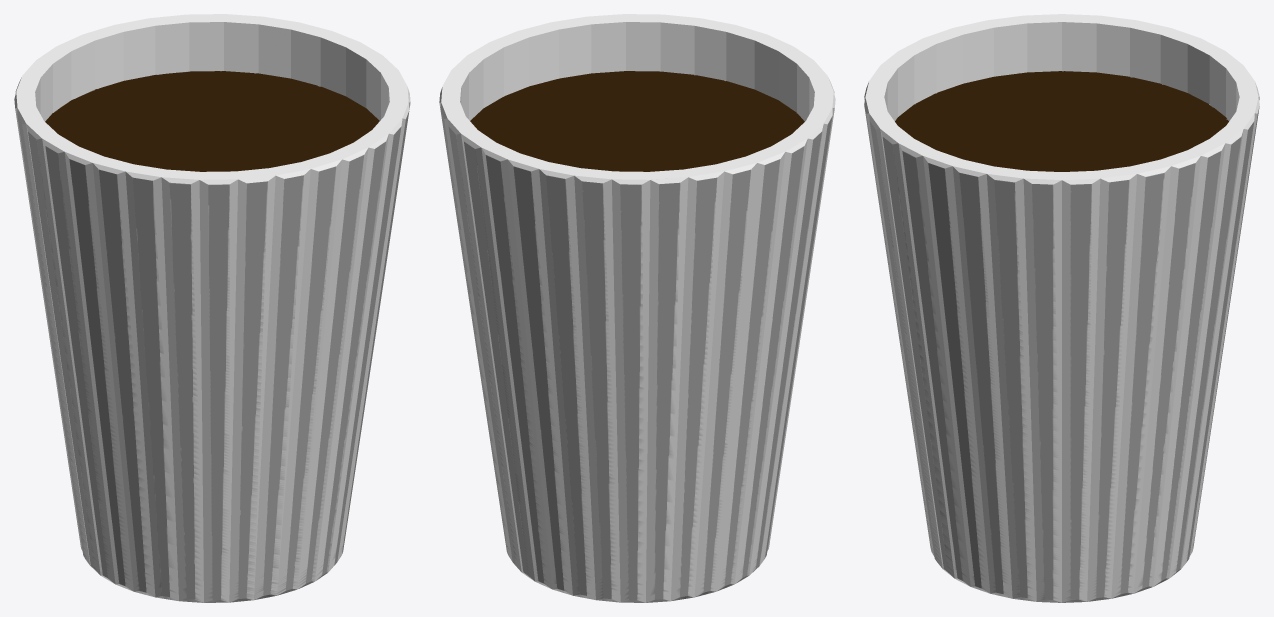
The model's file is Glass.fbx.
The picture shows the model from 3 angles, left to right: view 1: azimuth 30°, elevation 25°; view 2: azimuth 150°, elevation 25°; view 3: azimuth 270°, elevation 25°; orthographic projection.
Visible parts, largest first — view 1: Circle; view 2: Circle; view 3: Circle.
Part boxes in pixels (box(x1,y1,x2,y2)): Circle: box(14, 14, 410, 602); Circle: box(439, 14, 835, 602); Circle: box(864, 14, 1259, 602).
Size of the model in its own units: 1.75 by 1.75 by 2.2.
1 material, 1 textured.
